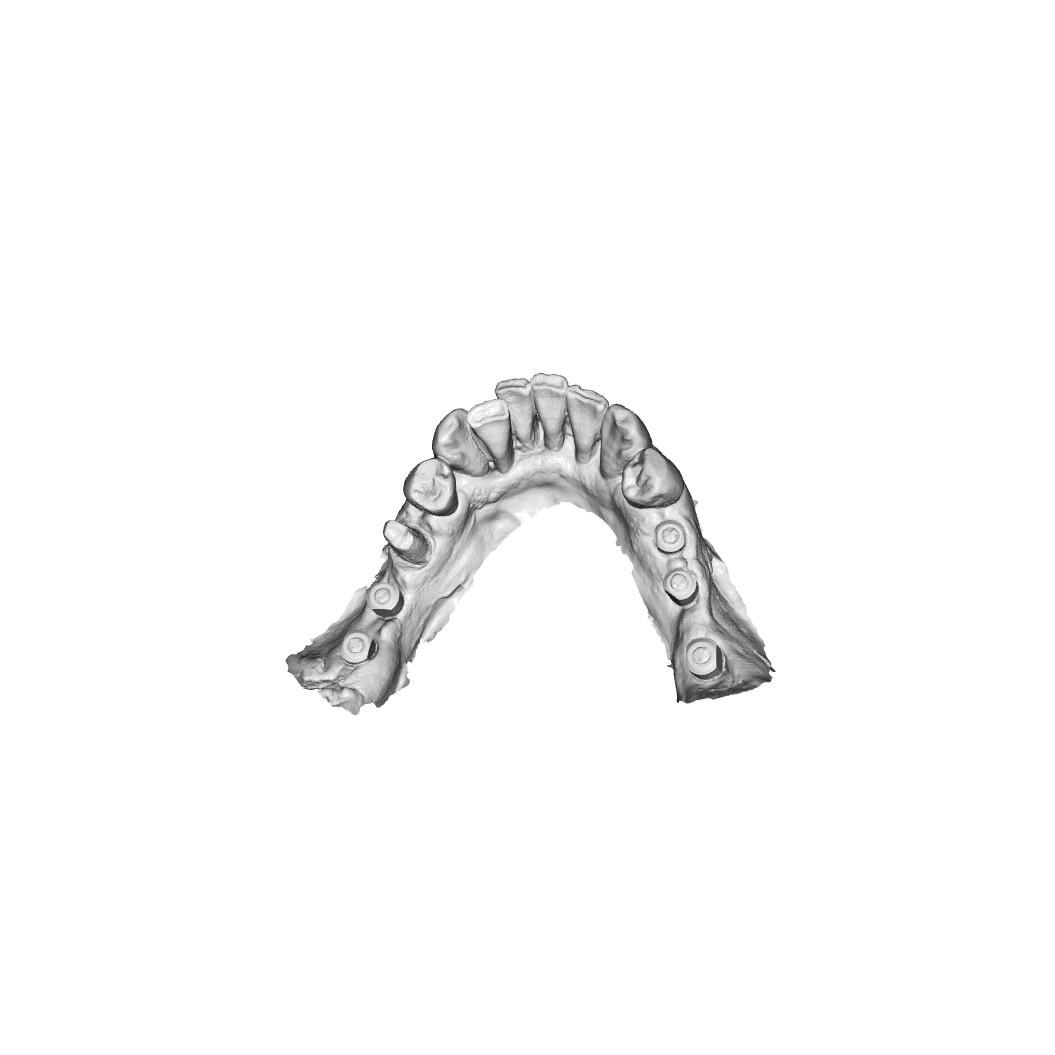canine: (603, 403, 650, 482), (433, 411, 485, 470)
crown: (381, 518, 434, 572)
implant: (680, 635, 726, 677), (661, 564, 702, 608), (649, 518, 692, 558), (366, 579, 406, 621), (336, 629, 376, 666)
incisor: (567, 384, 607, 466), (532, 375, 570, 447), (473, 402, 514, 468), (498, 377, 535, 446)
premolar: (619, 448, 688, 506), (403, 460, 460, 514)
